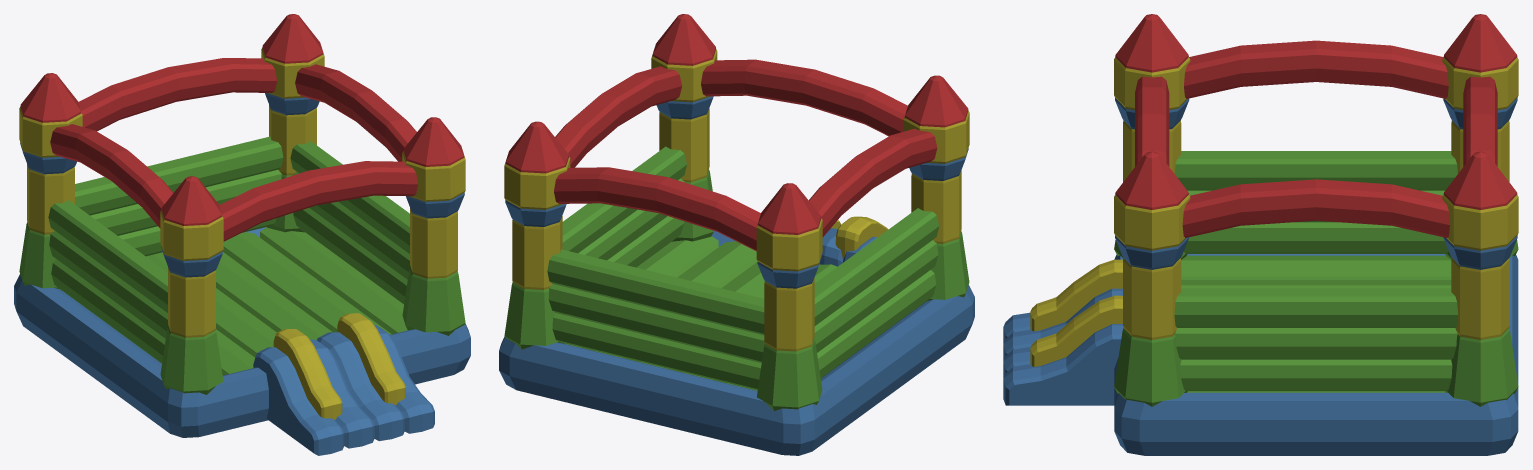
File: SM_Props_City_PlayGround_BouncyCastle.fbx
3 renders of one model, left to right at view 1: azimuth 30°, elevation 25°; view 2: azimuth 150°, elevation 25°; view 3: azimuth 270°, elevation 25°, orthographic. The views are drawn at different scales.
Parts seen in each view (by area): view 1: SM_Props_City_PlayGround_BouncyCastle; view 2: SM_Props_City_PlayGround_BouncyCastle; view 3: SM_Props_City_PlayGround_BouncyCastle.
Part boxes in pixels (x1,y1,x2,y2): SM_Props_City_PlayGround_BouncyCastle: (14, 14, 470, 455); SM_Props_City_PlayGround_BouncyCastle: (499, 14, 974, 455); SM_Props_City_PlayGround_BouncyCastle: (1003, 14, 1518, 455).
Size of the model in its own units: 266 by 210 by 339.
